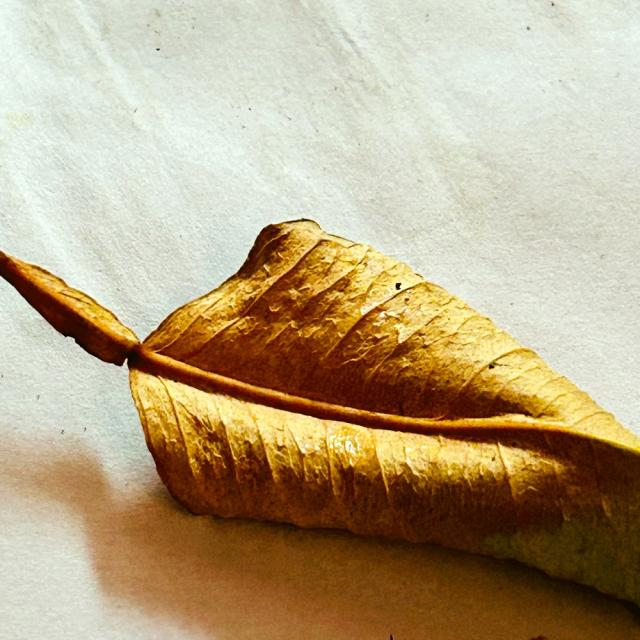DryLeaf_Lemon: (0, 219, 639, 541)
